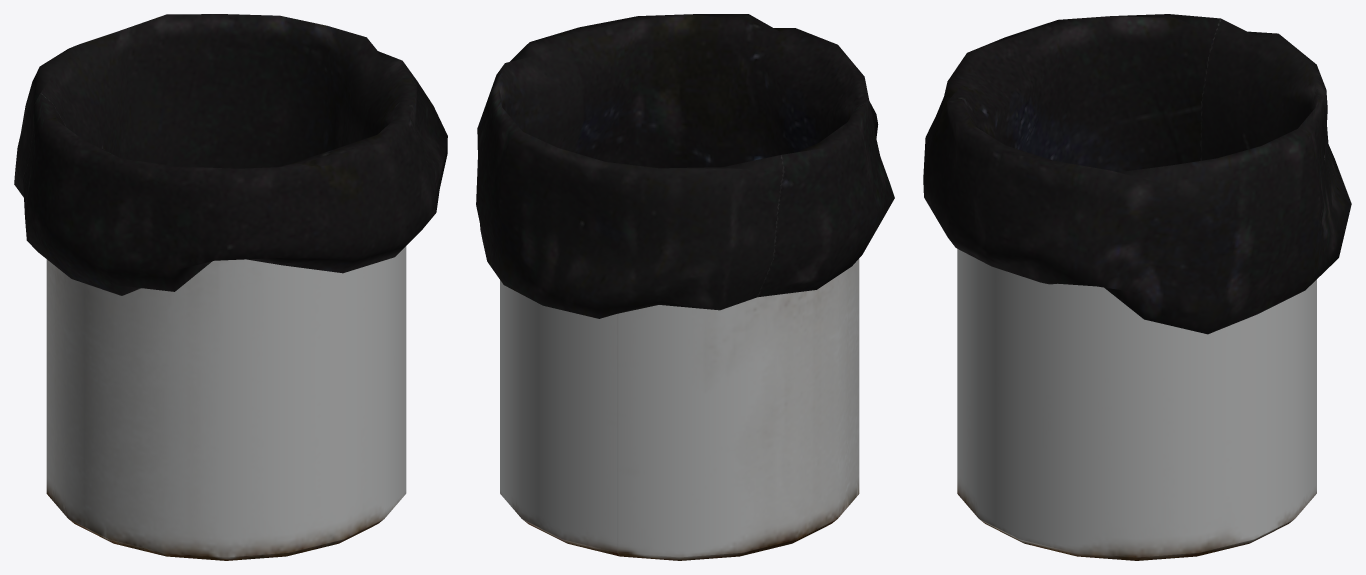
File: Prop_BagTrashCan.fbx
3 renders of one model, left to right at view 1: azimuth 30°, elevation 25°; view 2: azimuth 150°, elevation 25°; view 3: azimuth 270°, elevation 25°, orthographic.
Parts seen in each view (by area): view 1: Prop_BagTrashCan; view 2: Prop_BagTrashCan; view 3: Prop_BagTrashCan.
Boxes of the visible parts, x1,y1,x2,y2 form: Prop_BagTrashCan: (14, 14, 447, 560); Prop_BagTrashCan: (476, 14, 894, 560); Prop_BagTrashCan: (923, 14, 1351, 560).
Bounding box in the file's own units: 24.34 × 23.98 × 23.37.
